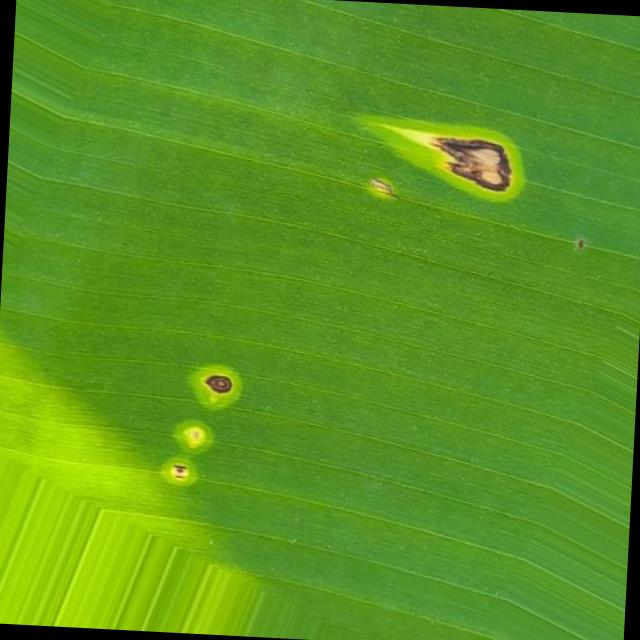Banana_Black_Sigatoka: (365, 58, 566, 320), (120, 313, 324, 522)
